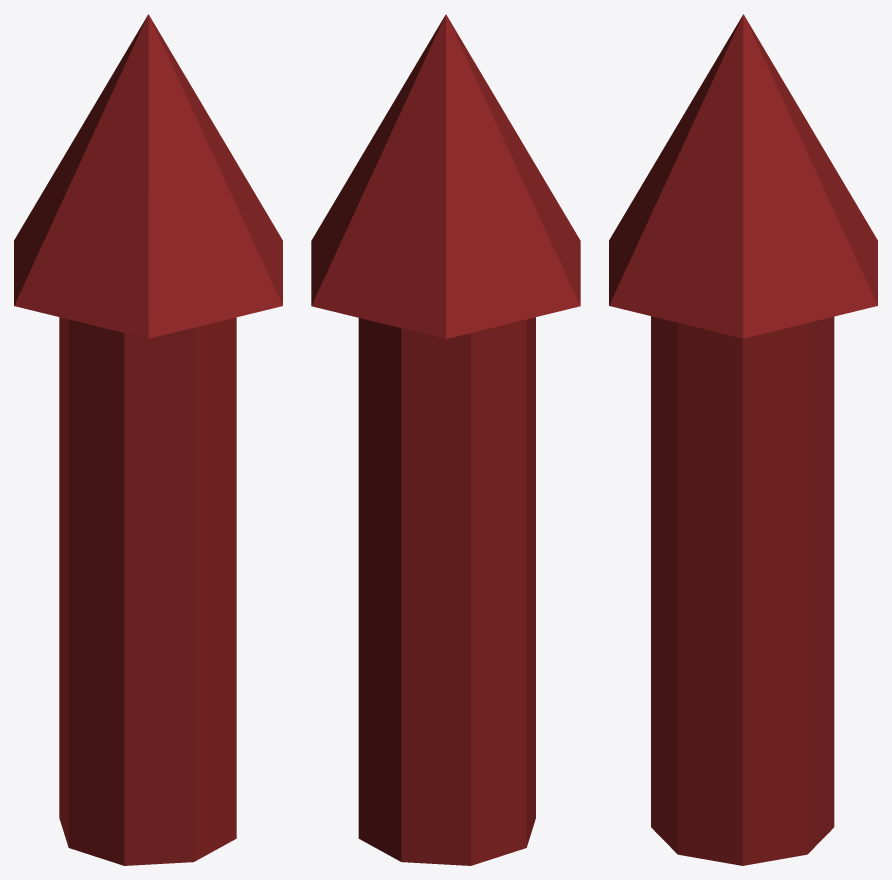
File: firework.dae
3 renders of one model, left to right at view 1: azimuth 30°, elevation 25°; view 2: azimuth 150°, elevation 25°; view 3: azimuth 270°, elevation 25°, orthographic.
Parts seen in each view (by area): view 1: Cylinder, Cone; view 2: Cylinder, Cone; view 3: Cylinder, Cone.
Part boxes in pixels (<box>): Cylinder: <box>59,317,236,865</box>; Cone: <box>14,14,282,338</box>; Cylinder: <box>358,317,535,865</box>; Cone: <box>311,14,580,338</box>; Cylinder: <box>651,316,834,865</box>; Cone: <box>609,14,877,338</box>.
Bounding box in the file's own units: 61.23 × 177 × 53.03.
